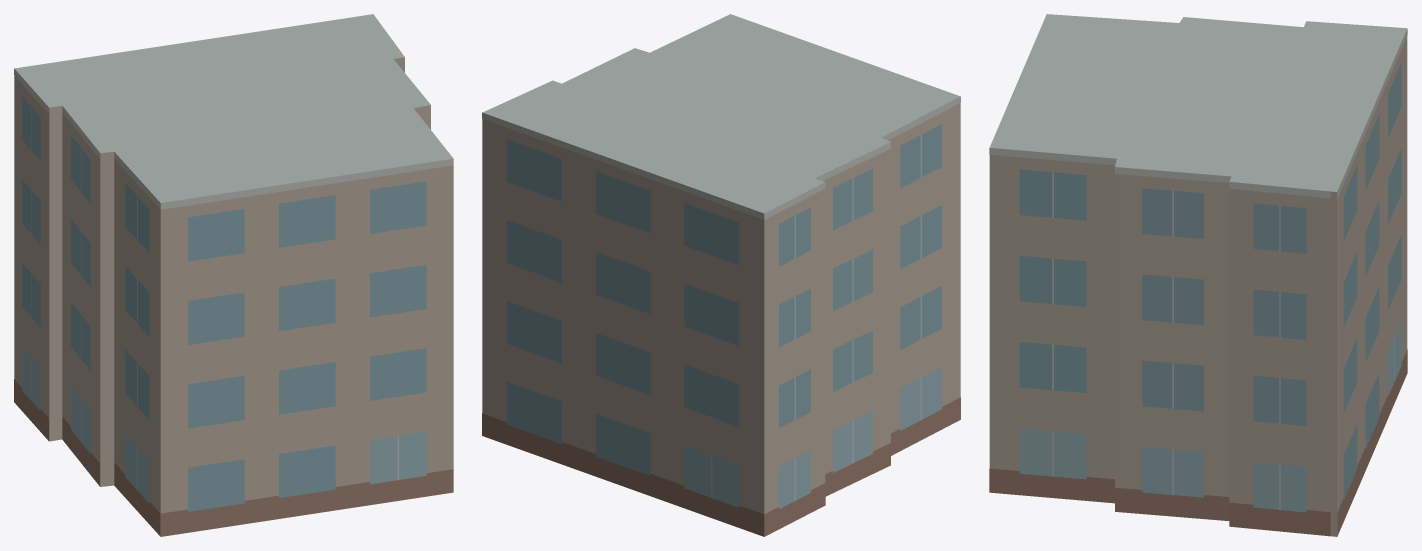
File: survey-upis-32710287.glb
The picture shows the model from 3 angles, left to right: view 1: azimuth 30°, elevation 25°; view 2: azimuth 150°, elevation 25°; view 3: azimuth 270°, elevation 25°; orthographic projection. The views are drawn at different scales.
Visible parts, largest first — view 1: survey-upis-32710287.tmp; view 2: survey-upis-32710287.tmp; view 3: survey-upis-32710287.tmp.
Boxes of the visible parts, <box> form: survey-upis-32710287.tmp: <box>14,14,453,536</box>; survey-upis-32710287.tmp: <box>482,14,960,536</box>; survey-upis-32710287.tmp: <box>989,14,1407,536</box>.
Size of the model in its own units: 13.52 by 12.2 by 13.42.
